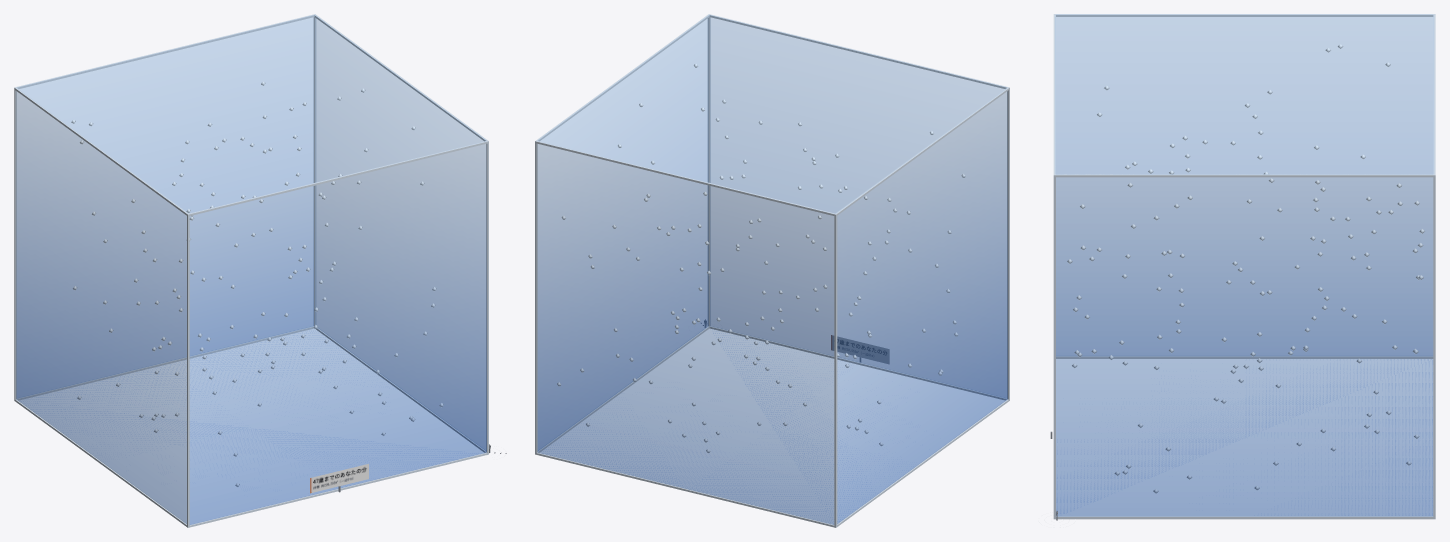
File: cube_life_47.glb
The picture shows the model from 3 angles, left to right: view 1: azimuth 30°, elevation 25°; view 2: azimuth 150°, elevation 25°; view 3: azimuth 270°, elevation 25°; orthographic projection. The views are drawn at different scales.
Visible parts, largest first — view 1: co2, edge, dots, label; view 2: co2, edge, dots, label; view 3: co2, edge, dots.
Boxes of the visible parts, bbox=[...] form: co2: bbox=[16, 15, 486, 524]; edge: bbox=[14, 14, 488, 527]; dots: bbox=[71, 81, 443, 487]; label: bbox=[310, 464, 368, 493]; co2: bbox=[537, 15, 1007, 524]; edge: bbox=[535, 14, 1009, 527]; dots: bbox=[557, 63, 965, 453]; label: bbox=[831, 335, 889, 363]; co2: bbox=[1055, 14, 1433, 516]; edge: bbox=[1053, 14, 1435, 519]; dots: bbox=[1067, 44, 1424, 493].
Bounding box in the file's own units: 65.07 × 61.32 × 64.17.
8 materials, 3 textured.
